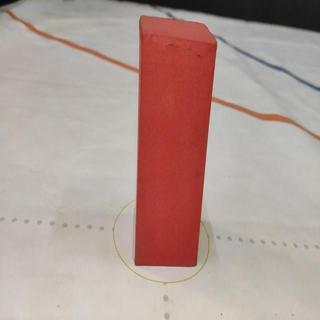redbox: (136, 13, 217, 268)
